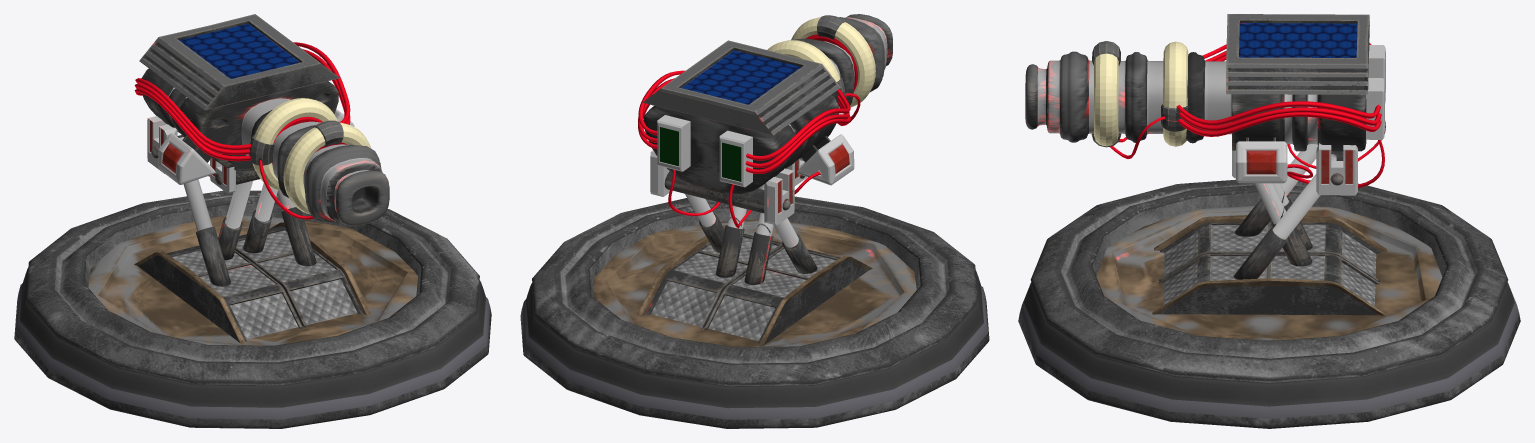
File: canon.fbx
The picture shows the model from 3 angles, left to right: view 1: azimuth 30°, elevation 25°; view 2: azimuth 150°, elevation 25°; view 3: azimuth 270°, elevation 25°; orthographic projection. The views are drawn at different scales.
Visible parts, largest first — view 1: Cube.003, Cube.001; view 2: Cube.003, Cube.001; view 3: Cube.003, Cube.001.
Part boxes in pixels (x1=…): Cube.003: x1=88, y1=14, x2=417, y2=345; Cube.001: x1=14, y1=190, x2=491, y2=428; Cube.003: x1=593, y1=14, x2=916, y2=347; Cube.001: x1=520, y1=196, x2=989, y2=428; Cube.003: x1=1025, y1=14, x2=1442, y2=340; Cube.001: x1=1018, y1=179, x2=1520, y2=428.
Size of the model in its own units: 2.86 by 2.86 by 1.8.
